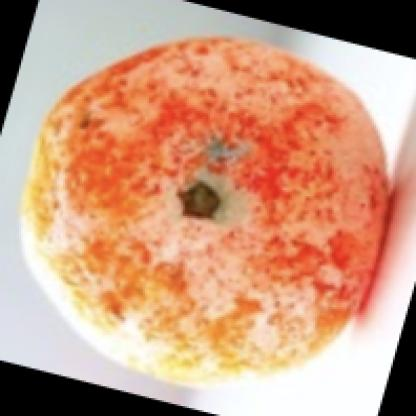rotten: (25, 37, 393, 388)
